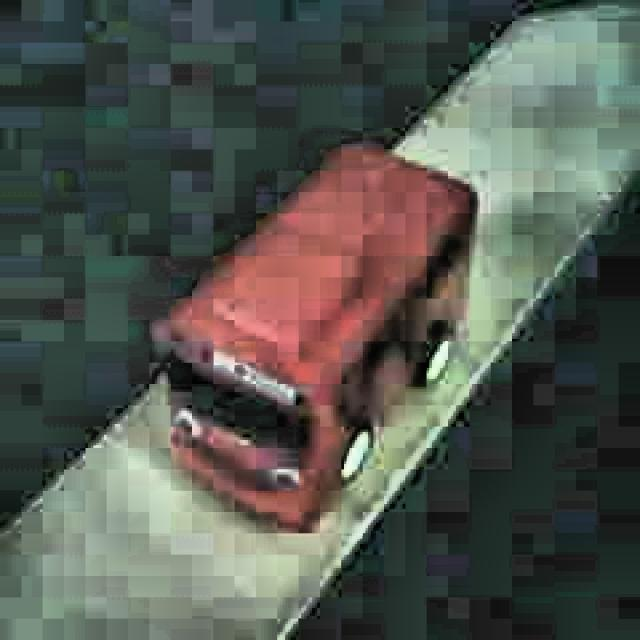bus: (154, 142, 477, 534)
